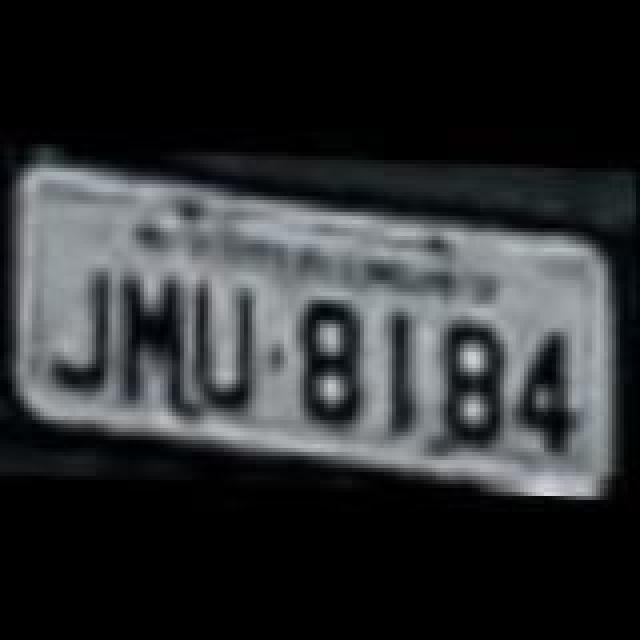1: (372, 302, 424, 434)
4: (506, 322, 590, 462)
8: (290, 294, 378, 430), (428, 318, 516, 450)
J: (46, 268, 126, 396)
M: (108, 272, 192, 412)
U: (188, 278, 272, 426)
